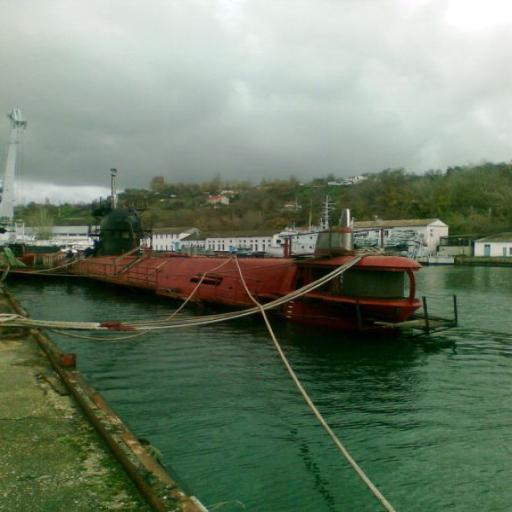submarine: (59, 195, 470, 333)
